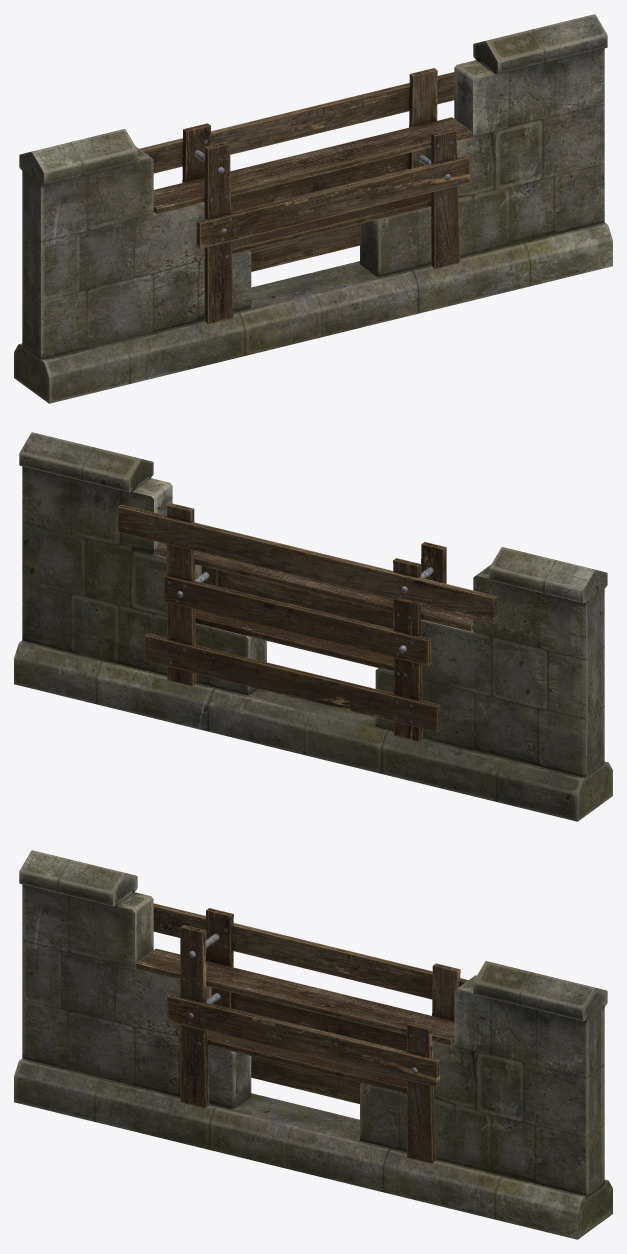
Rendered from old-restored-wall.glb.
3 renders of one model, top to bottom at view 1: azimuth 30°, elevation 25°; view 2: azimuth 150°, elevation 25°; view 3: azimuth 330°, elevation 25°, orthographic.
Visible parts, largest first — view 1: old_restored_wall; view 2: old_restored_wall; view 3: old_restored_wall.
Boxes of the visible parts, left/top/right/bottom form: old_restored_wall: left=14, top=14, right=612, bottom=403; old_restored_wall: left=14, top=432, right=612, bottom=821; old_restored_wall: left=14, top=850, right=612, bottom=1239.
Bounding box in the file's own units: 6.94 × 2.81 × 0.7609.
Materials: 1 (1 with a texture image).
